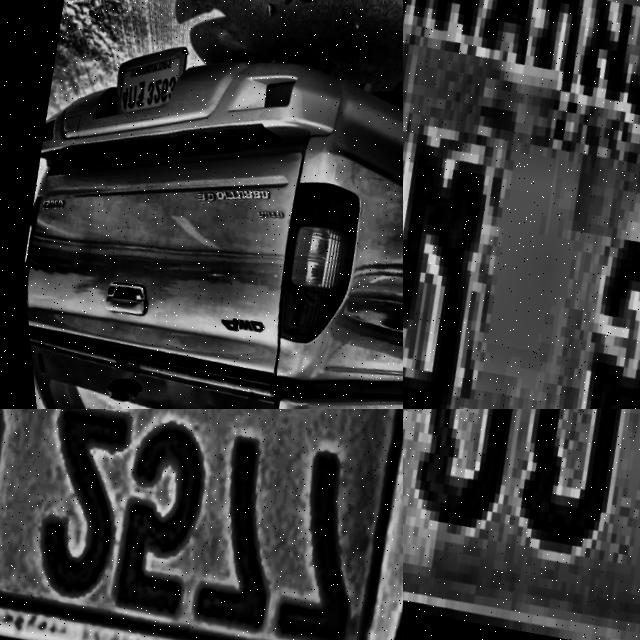license-plate: (403, 0, 640, 409), (0, 409, 403, 640), (403, 409, 640, 640), (97, 32, 197, 138)
